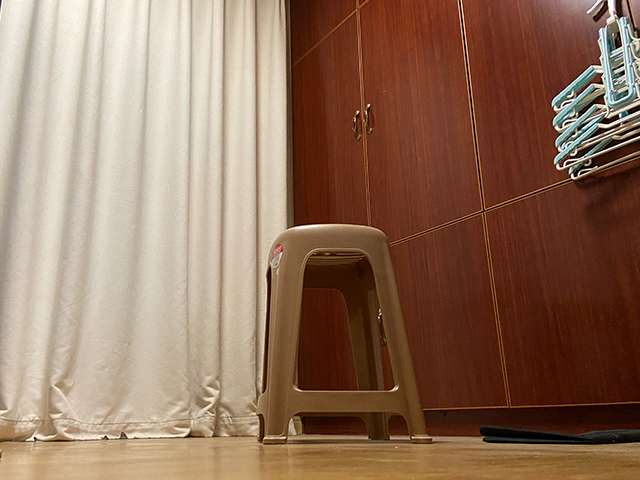cabinet: (285, 1, 640, 436)
curtain: (1, 1, 304, 442)
stool: (255, 224, 433, 445)
